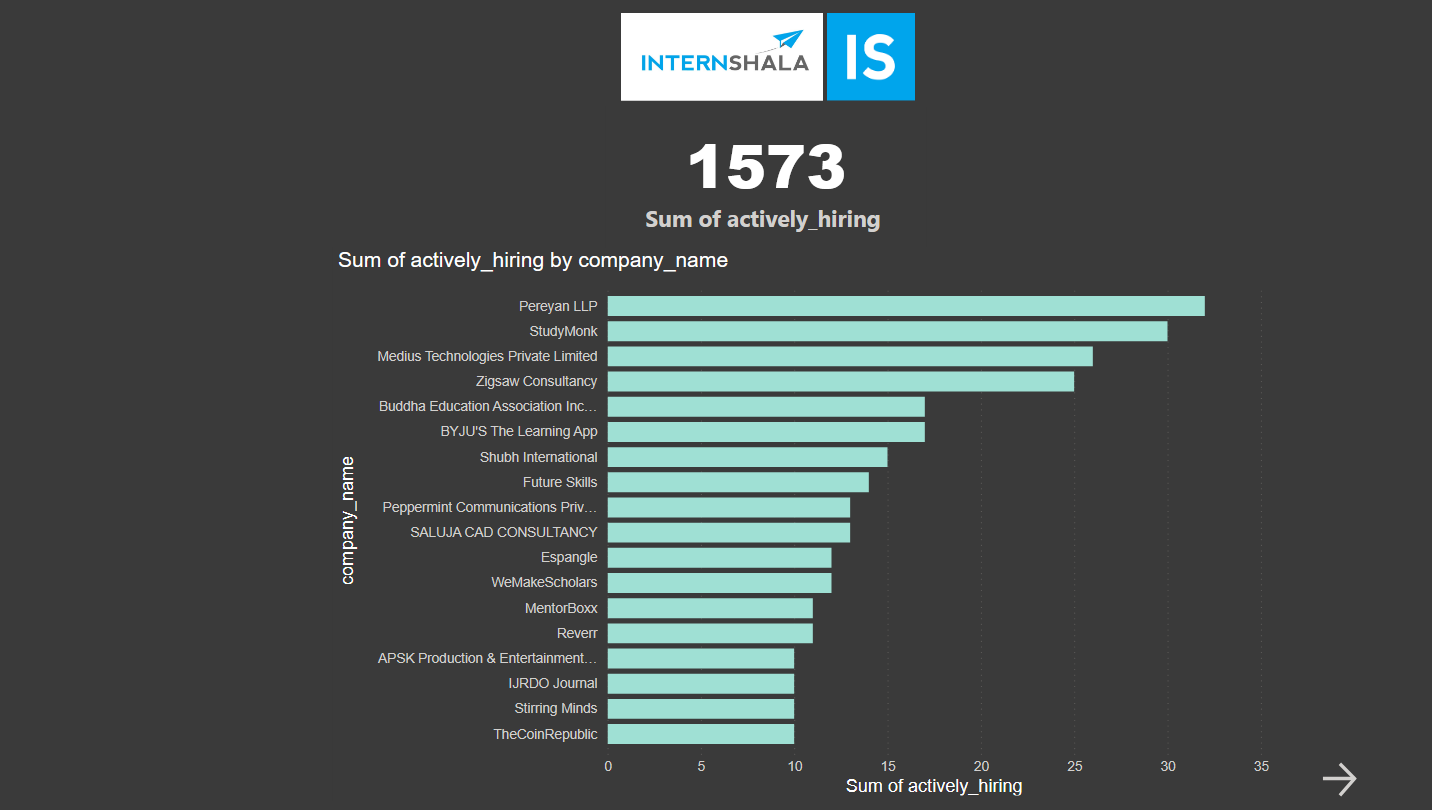

The page's visual inventory and layout, read from the dashboard file:
{"tool":"powerbi","page":{"name":"Page 1","canvas":[1280,720],"ordinal":0},"visuals":[{"type":"card","fields":{"Values":["Sum(Jobs.actively_hiring)"]},"box":[537.1,94.8,284.4,125],"z":0},{"type":"clusteredBarChart","fields":{"Category":["Jobs.company_name"],"Y":["Sum(Jobs.actively_hiring)"]},"box":[295.3,219.8,833.8,490.4],"z":1000},{"type":"actionButton","box":[1166.4,671,100.2,39.8],"z":2000},{"type":"image","box":[712.9,6.9,116.8,87.9],"z":3000},{"type":"image","box":[206.1,6.9,868.2,87.9],"z":4000}]}

Visuals, with their boxes in screenshot pixels (x1, y1, x2, y2), scaled from the page's 1280x720 canvas onto the 1432x810 screenshot:
card - Sum(Jobs.actively_hiring): 601/107/919/247
clusteredBarChart - Jobs.company_name x Sum(Jobs.actively_hiring): 330/247/1263/799
actionButton: 1305/755/1417/800
image: 798/8/928/107
image: 231/8/1202/107
